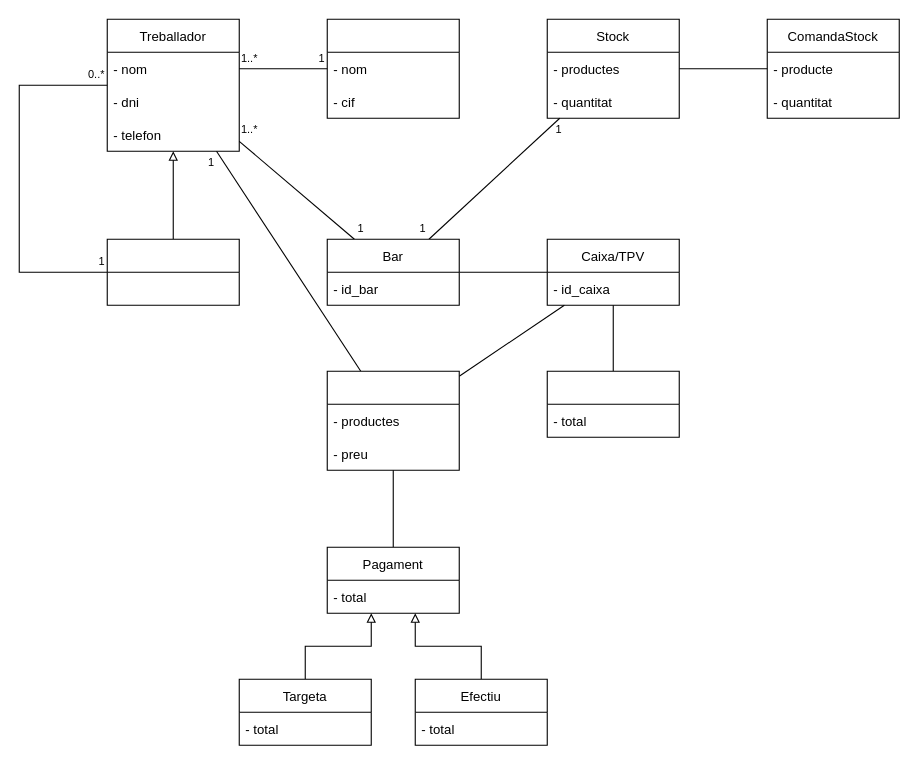
Some shapes in this 919 by 765 pixel diagram are drawn without their labels. The shapes that lost their labels are listed below. From the top down, each one's box as (x1, y1, x2, y2) in pixels, then its label:
(326, 18, 459, 118): Empresa
(106, 238, 239, 305): Encarregat
(326, 370, 459, 470): Ticket
(546, 370, 679, 437): Recompte
